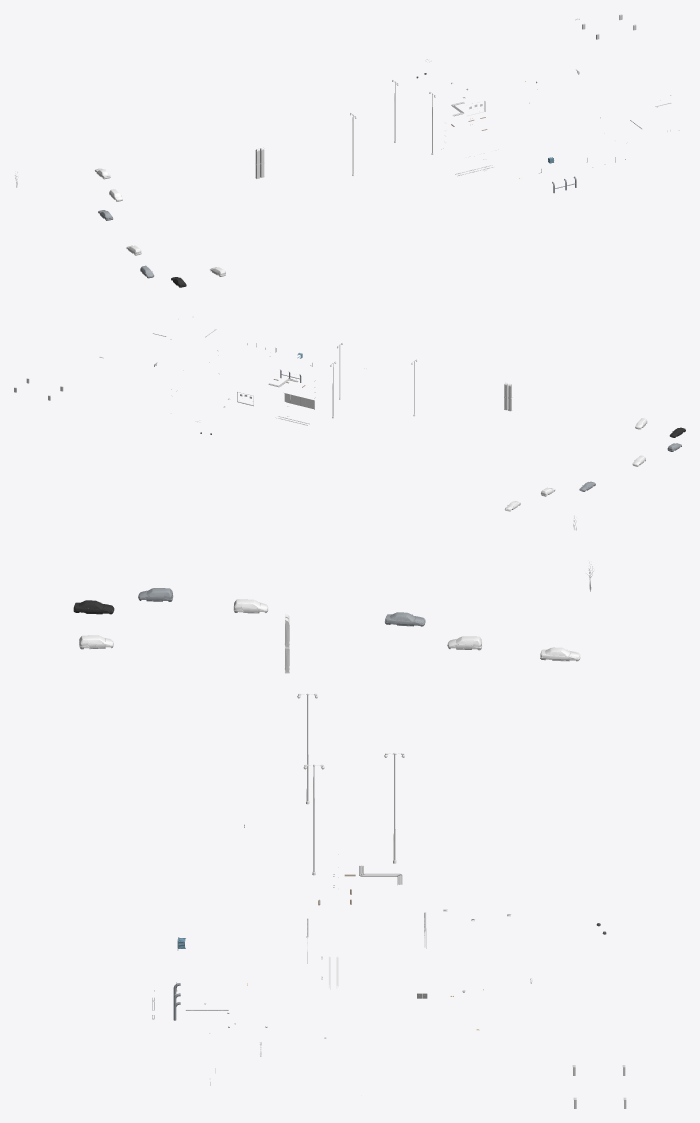
The picture shows the model from 3 angles, top to bottom: view 1: azimuth 30°, elevation 25°; view 2: azimuth 150°, elevation 25°; view 3: azimuth 270°, elevation 25°; orthographic projection. The views are drawn at different scales.
Parts seen in each view (by area): view 1: no part large enough to name; view 2: n0_lr0_agg_merge_nuke_industrial_props_001_0_fragment1_c-1_1; view 3: no part large enough to name.
Boxes of the visible parts, x1,y1,x2,y2 form: n0_lr0_agg_merge_nuke_industrial_props_001_0_fragment1_c-1_1: (275,392,314,425).
Bounding box in the file's own units: 7380 × 1064 × 3192.
